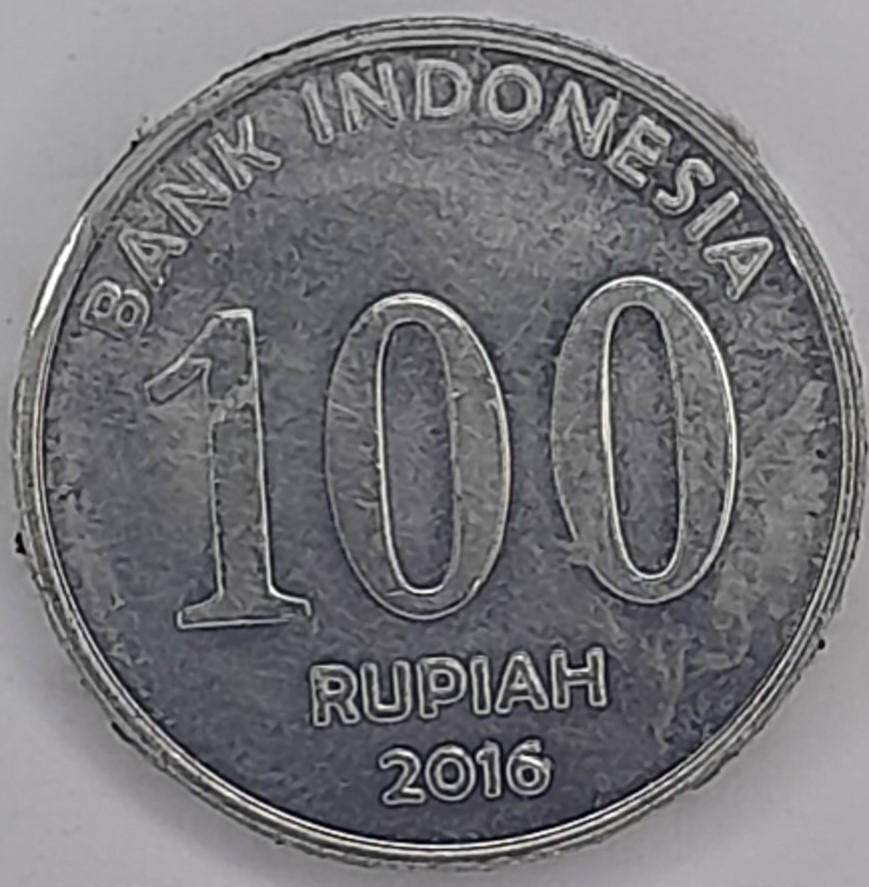coin_100_e2016: (4, 8, 868, 873)
